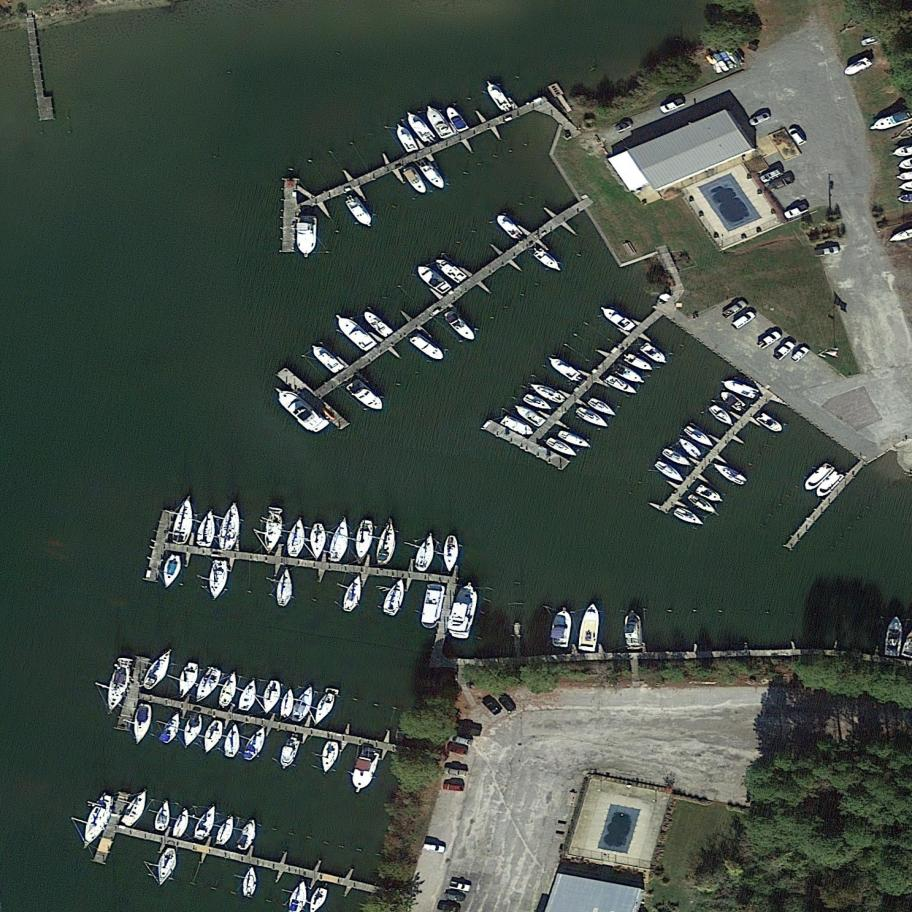ship: (267, 380, 331, 436), (75, 790, 117, 853), (331, 309, 380, 356), (446, 581, 482, 642), (100, 655, 132, 717), (138, 645, 178, 694), (344, 375, 388, 417), (348, 744, 383, 792), (413, 260, 454, 298), (442, 306, 480, 346), (189, 664, 224, 707), (215, 502, 244, 553), (168, 495, 197, 546), (403, 107, 439, 148), (150, 843, 182, 889), (307, 340, 346, 377), (408, 331, 448, 367), (800, 458, 837, 495), (120, 786, 151, 830), (410, 531, 440, 576), (343, 193, 377, 232), (576, 604, 603, 653), (418, 582, 445, 631), (374, 518, 401, 567), (422, 102, 455, 142), (598, 302, 637, 335), (308, 688, 339, 728), (240, 724, 271, 764), (340, 572, 368, 616), (288, 683, 318, 724), (527, 377, 567, 407), (811, 467, 845, 502), (191, 802, 220, 843), (545, 352, 583, 383), (710, 458, 749, 488), (283, 516, 309, 561), (194, 507, 221, 550), (432, 253, 468, 285), (174, 661, 201, 702), (381, 576, 407, 618), (532, 245, 566, 277), (328, 516, 351, 563), (483, 77, 513, 113), (574, 405, 611, 434), (156, 710, 185, 747), (499, 413, 537, 441), (686, 492, 724, 520), (493, 211, 526, 243), (361, 307, 394, 339), (549, 607, 574, 649), (612, 362, 649, 390), (544, 434, 581, 462), (294, 215, 317, 260), (130, 700, 153, 745), (234, 816, 261, 854), (601, 372, 640, 398), (512, 401, 548, 429), (651, 458, 687, 486), (720, 376, 760, 401), (352, 519, 375, 562), (418, 159, 447, 193), (401, 164, 430, 198), (273, 568, 297, 609), (681, 423, 716, 451), (556, 428, 595, 453), (180, 712, 205, 751), (584, 394, 620, 421), (206, 559, 229, 601), (216, 670, 240, 710), (392, 121, 419, 156), (672, 504, 708, 530), (259, 678, 283, 717), (235, 678, 261, 714), (159, 553, 183, 592), (277, 735, 302, 772), (707, 401, 737, 431), (638, 341, 671, 368), (443, 102, 470, 135), (151, 797, 175, 834), (201, 718, 224, 756), (755, 410, 786, 438), (883, 616, 904, 657), (262, 511, 282, 554), (307, 522, 328, 562), (623, 350, 656, 375), (522, 391, 555, 416), (661, 446, 694, 471), (214, 814, 238, 848), (170, 806, 194, 840), (318, 740, 341, 774), (221, 723, 242, 760), (695, 483, 727, 507), (841, 55, 873, 79), (623, 611, 643, 649), (675, 434, 703, 461), (718, 386, 746, 413), (441, 535, 459, 573), (278, 688, 297, 719), (242, 865, 257, 897), (858, 34, 883, 48)
small-vehicle: (720, 298, 749, 323), (755, 329, 783, 353), (731, 309, 757, 332), (772, 339, 796, 363), (783, 203, 810, 222), (481, 696, 503, 718), (787, 126, 808, 149), (660, 96, 685, 115), (747, 110, 772, 129), (759, 167, 784, 185), (789, 344, 810, 365), (770, 175, 795, 192), (499, 693, 518, 715), (449, 733, 475, 749), (812, 245, 841, 259), (445, 742, 470, 758), (446, 879, 472, 893), (613, 119, 634, 136), (443, 766, 469, 779), (422, 841, 446, 854), (443, 891, 466, 904), (442, 782, 466, 793)
